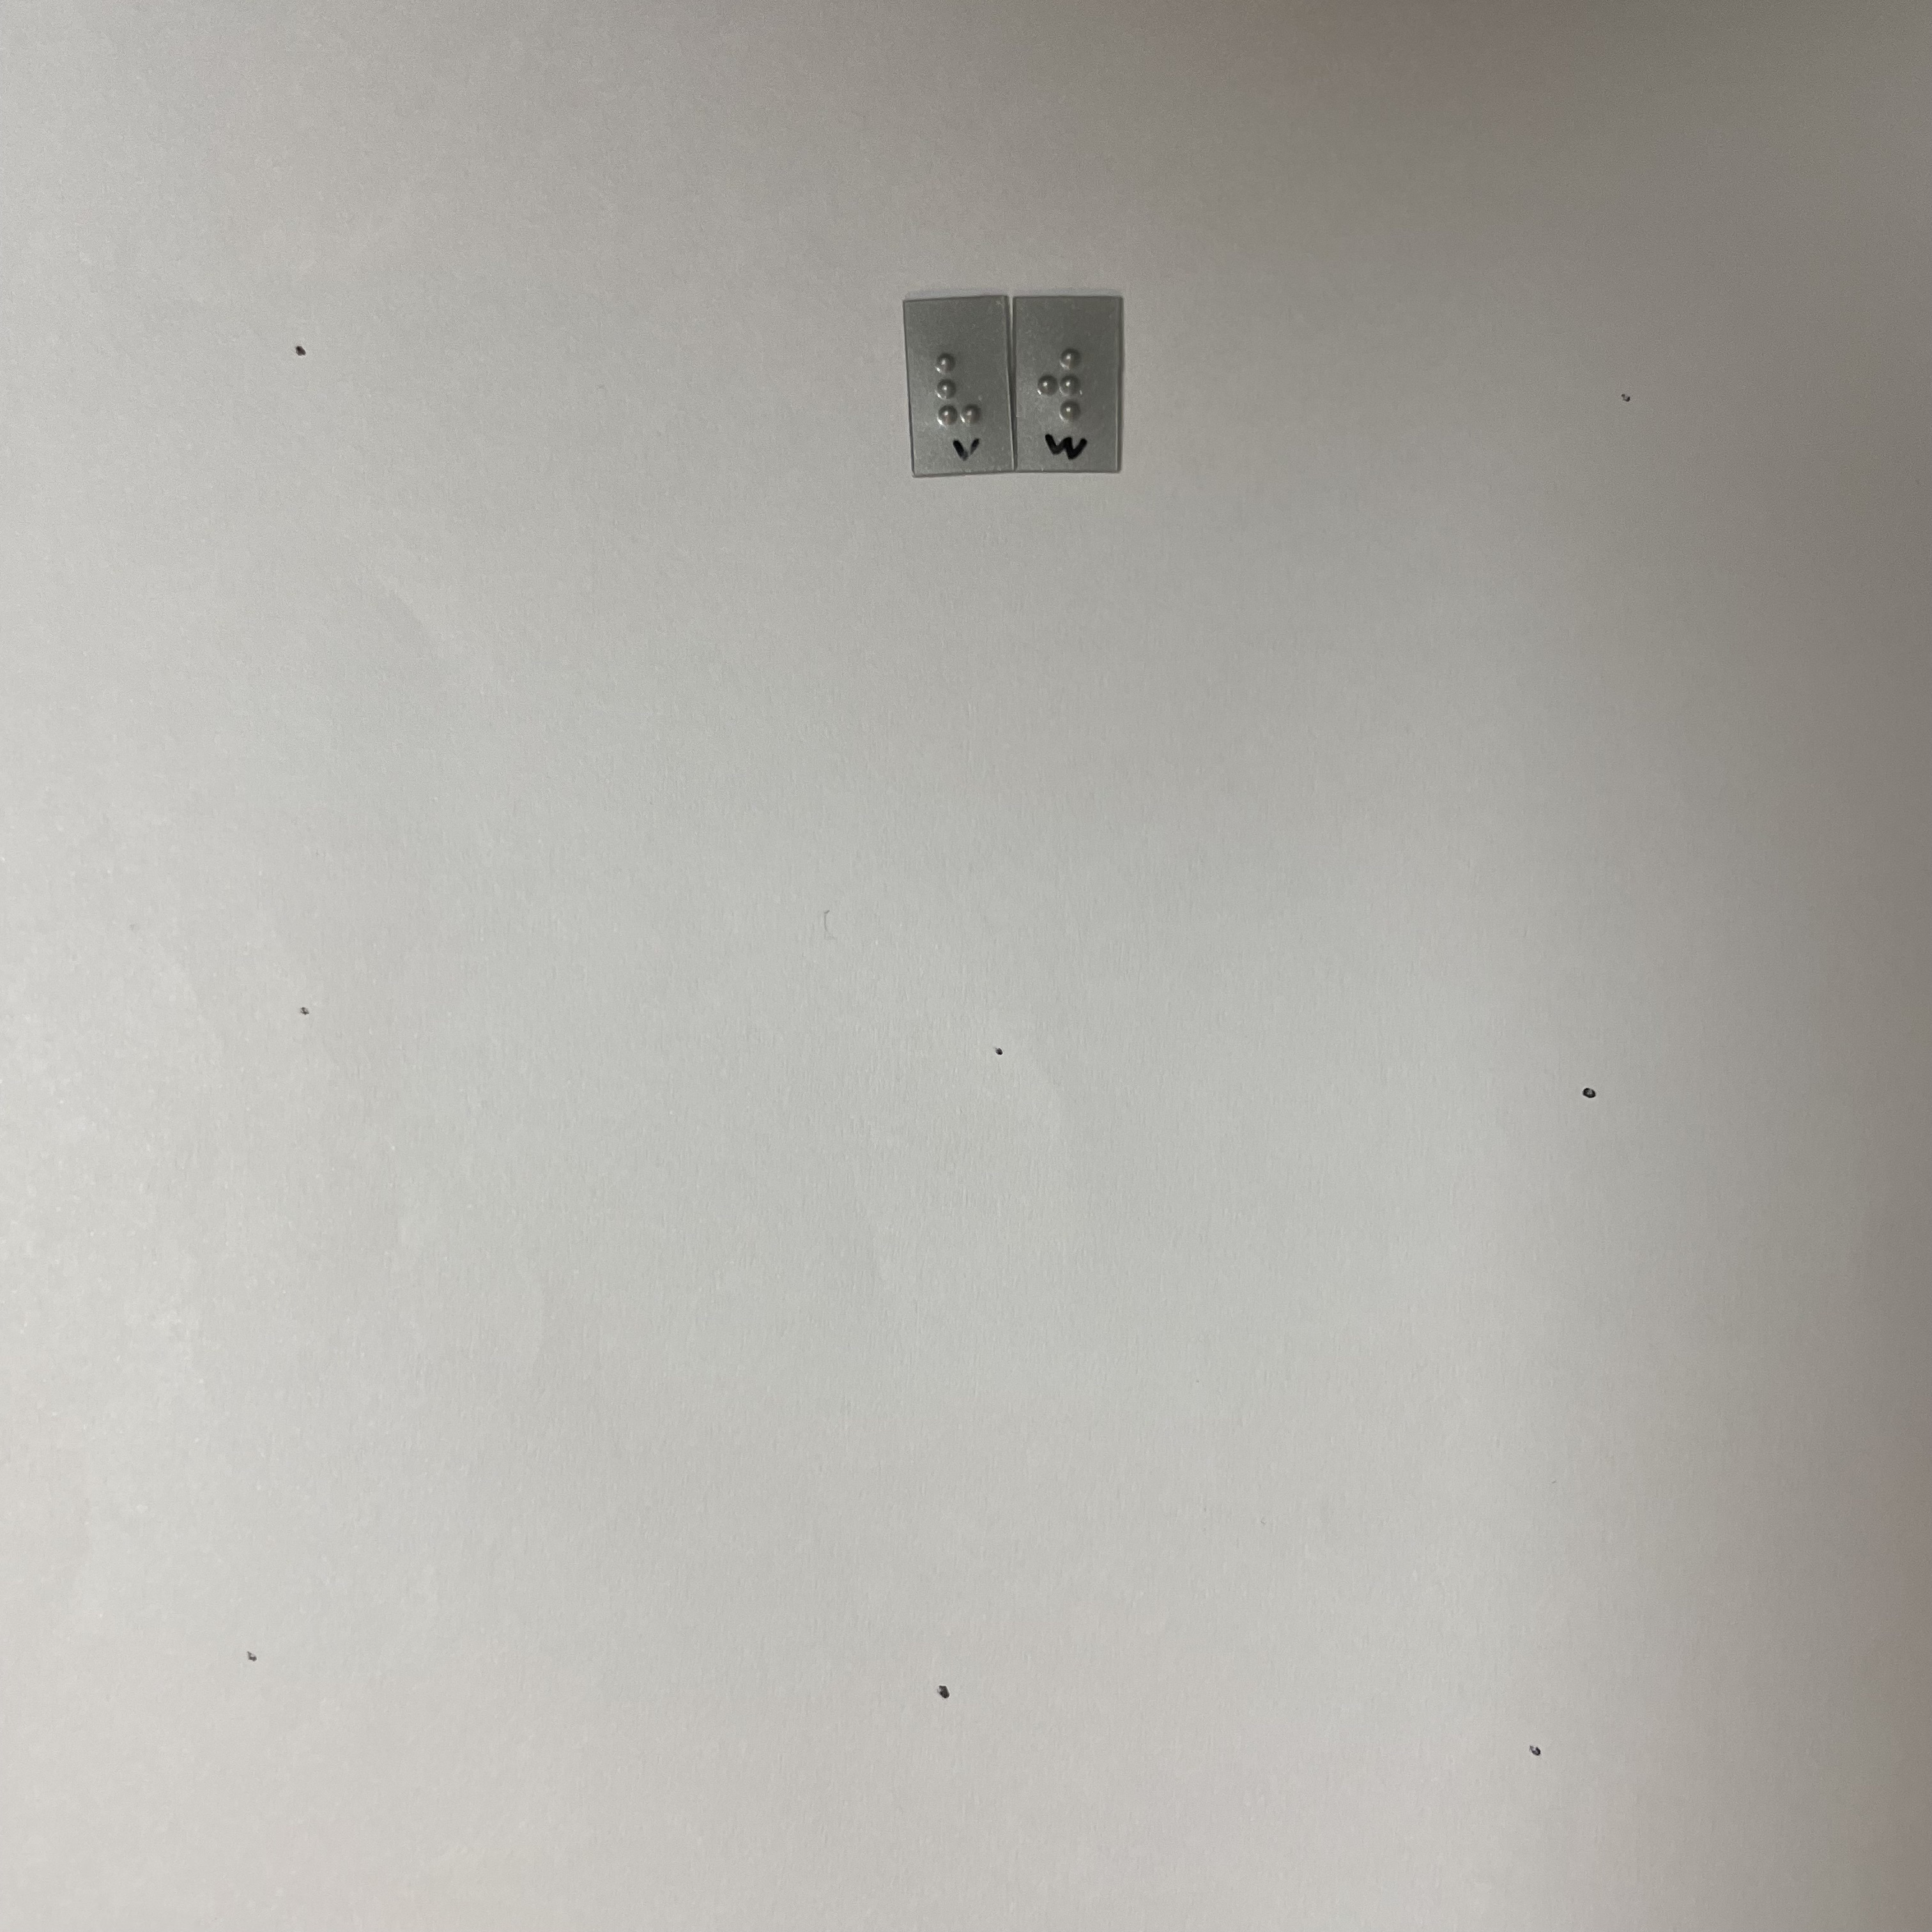v: (923, 341, 997, 433)
w: (1032, 341, 1093, 431)
